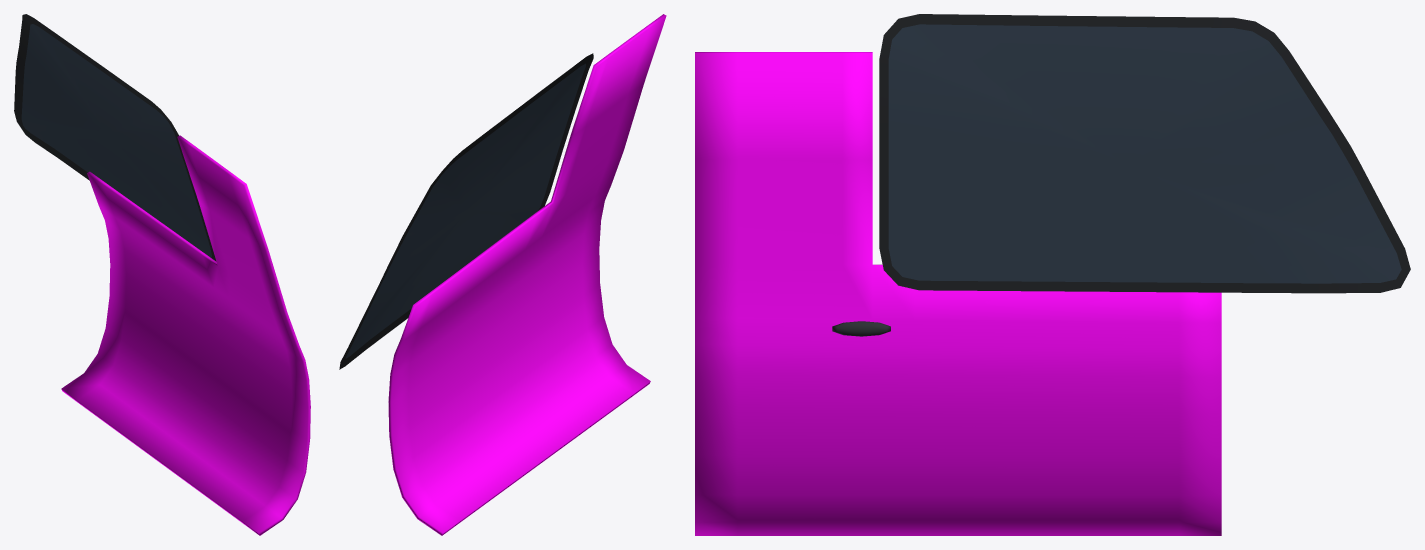
File: car-door-van.obj
3 views of the same model, side by side, from view 1: azimuth 30°, elevation 25°; view 2: azimuth 150°, elevation 25°; view 3: azimuth 270°, elevation 25° (orthographic). The views are drawn at different scales.
Parts seen in each view (by area): view 1: door, door_win_front.1.nocast, door_frame.win_front.1.nocast; view 2: door, door_win_front.1.nocast, door_frame.win_front.1.nocast; view 3: door, door_win_front.1.nocast, door_frame.win_front.1.nocast.
Part boxes in pixels (x1,y1,x2,y2): door: [61, 135, 310, 535]; door_win_front.1.nocast: [21, 24, 211, 257]; door_frame.win_front.1.nocast: [14, 14, 216, 261]; door: [388, 14, 666, 535]; door_win_front.1.nocast: [345, 63, 585, 358]; door_frame.win_front.1.nocast: [339, 53, 593, 369]; door: [695, 52, 1221, 535]; door_win_front.1.nocast: [888, 24, 1401, 283]; door_frame.win_front.1.nocast: [879, 14, 1410, 293].
Bounding box in the file's own units: 0.2984 × 1.44 × 1.85.
